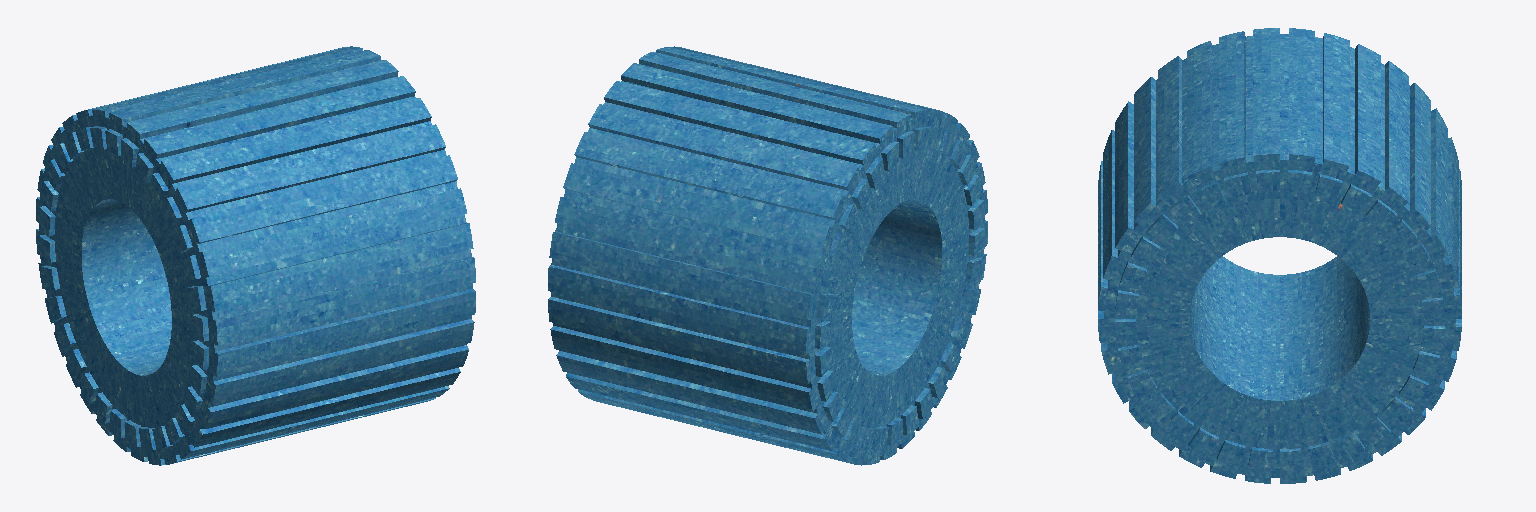
3 renders of one model, left to right at view 1: azimuth 30°, elevation 25°; view 2: azimuth 150°, elevation 25°; view 3: azimuth 270°, elevation 25°, orthographic.
Parts seen in each view (by area): view 1: Cylinder.006; view 2: Cylinder.006; view 3: Cylinder.006.
Part boxes in pixels (left/top/right/bottom): Cylinder.006: left=36, top=46, right=475, bottom=465; Cylinder.006: left=548, top=46, right=987, bottom=465; Cylinder.006: left=1098, top=28, right=1461, bottom=483.
Bounding box in the file's own units: 0.0931 × 0.109 × 0.109.
1 materials, 1 textured.